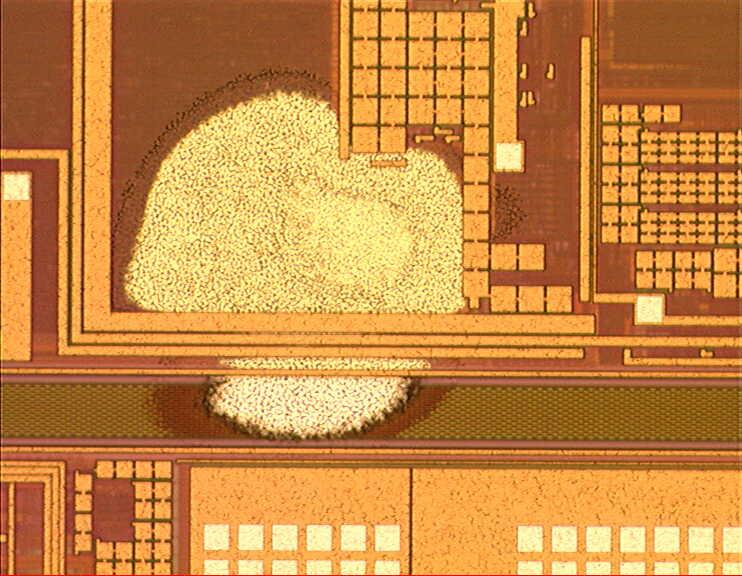BLOCK ETCH: (92, 64, 532, 463)
